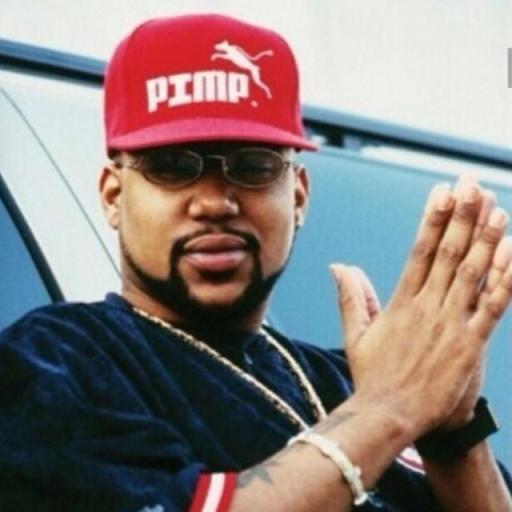Puma: (211, 37, 279, 98)
